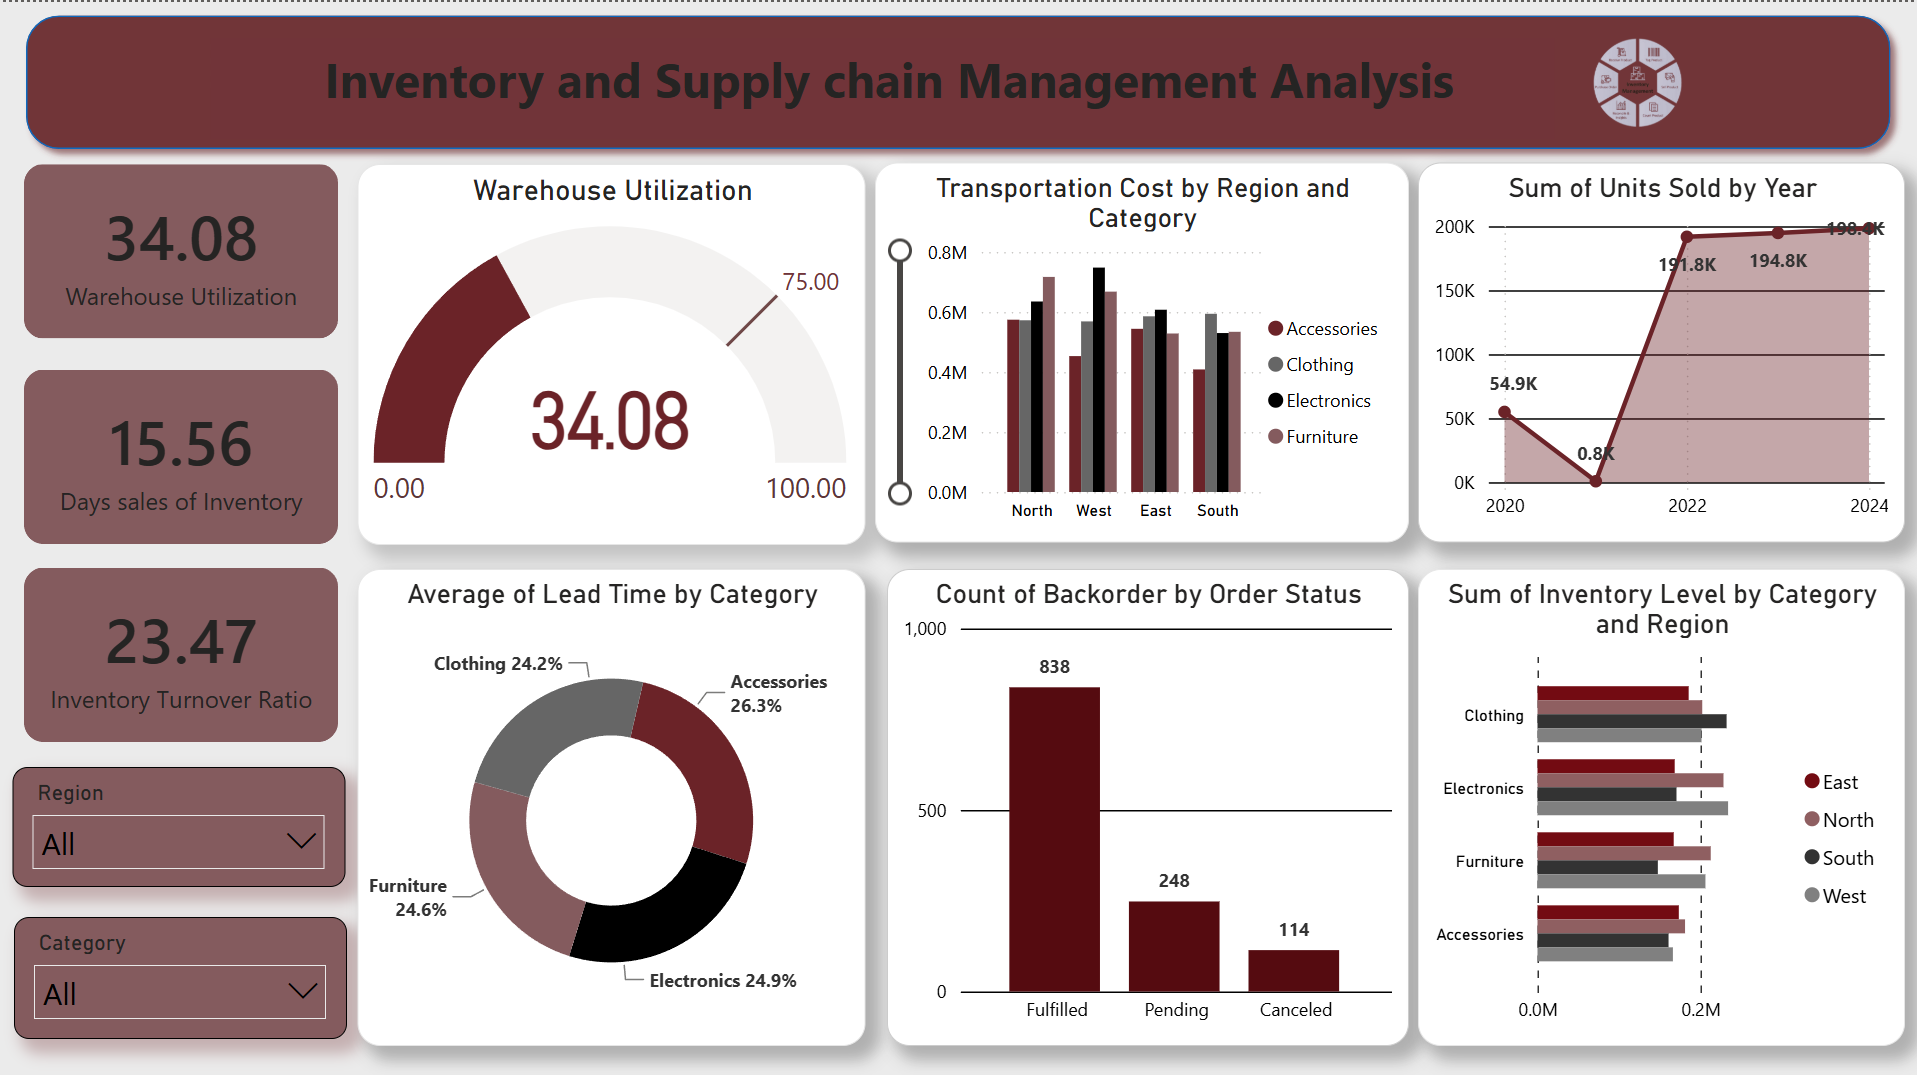

The page's visual inventory and layout, read from the dashboard file:
{"tool":"powerbi","page":{"name":"Page 1","canvas":[1280,720],"ordinal":0},"visuals":[{"type":"shape","box":[8.6,0,1261.4,107.1],"z":0},{"type":"textbox","box":[141.3,24,896,66.7],"z":1000},{"type":"cardVisual","fields":{"Data":["Inventory_SupplyChain_Dataset (1).Warehouse Utilization"]},"box":[0,91.2,242.6,150],"z":2000},{"type":"cardVisual","fields":{"Data":["Inventory_SupplyChain_Dataset (1).Days sales of Inventory"]},"box":[0,227.9,242.6,150],"z":3000},{"type":"cardVisual","fields":{"Data":["Inventory_SupplyChain_Dataset (1).Inventory Turnover Ratio"]},"box":[0,360.3,242.6,150],"z":4000},{"type":"slicer","fields":{"Values":["Inventory_SupplyChain_Dataset (1).Region"]},"box":[8.8,510.3,222.1,79.4],"z":5000},{"type":"slicer","fields":{"Values":["Inventory_SupplyChain_Dataset (1).Category"]},"box":[10.3,610.3,222.1,80.9],"z":6000},{"type":"gauge","fields":{"Y":["Inventory_SupplyChain_Dataset (1).Warehouse Utilization"]},"box":[239.4,108.2,338.7,253.4],"z":7000},{"type":"clusteredColumnChart","title":"Transportation Cost by Region and Category","fields":{"Y":["Sum(Inventory_SupplyChain_Dataset (1).Transportation Cost)"],"Category":["Inventory_SupplyChain_Dataset (1).Region"],"Series":["Inventory_SupplyChain_Dataset (1).Category"]},"box":[584.4,107,355.2,253.4],"z":8000},{"type":"lineChart","fields":{"Y":["Sum(Inventory_SupplyChain_Dataset (1).Units Sold)"],"Category":["Inventory_SupplyChain_Dataset (1).Date.Variation.Date Hierarchy.Year"]},"box":[946,107,324.7,253.4],"z":9000},{"type":"donutChart","title":"Average of Lead Time by Category","fields":{"Y":["Avg(Inventory_SupplyChain_Dataset (1).Lead Time (Days))"],"Category":["Inventory_SupplyChain_Dataset (1).Category"]},"box":[239.4,378.1,338.7,318.3],"z":10000},{"type":"columnChart","fields":{"Y":["CountNonNull(Inventory_SupplyChain_Dataset (1).Backorder)"],"Category":["Inventory_SupplyChain_Dataset (1).Order Status"]},"box":[592,378.1,347.6,318.3],"z":11000},{"type":"clusteredBarChart","fields":{"Category":["Inventory_SupplyChain_Dataset (1).Category"],"Series":["Inventory_SupplyChain_Dataset (1).Region"],"Y":["Sum(Inventory_SupplyChain_Dataset (1).Inventory Level)"]},"box":[946,378,325,318],"z":12000},{"type":"image","box":[1037.8,7.8,108.9,91.1],"z":13000}]}

Visuals, with their boxes in screenshot pixels (x1, y1, x2, y2), scaled from the page's 1280x720 canvas onto the 1917x1075 screenshot:
shape: box(13, 0, 1902, 160)
textbox: box(212, 36, 1554, 135)
cardVisual - Inventory_SupplyChain_Dataset (1).Warehouse Utilization: box(0, 136, 363, 360)
cardVisual - Inventory_SupplyChain_Dataset (1).Days sales of Inventory: box(0, 340, 363, 564)
cardVisual - Inventory_SupplyChain_Dataset (1).Inventory Turnover Ratio: box(0, 538, 363, 762)
slicer - Inventory_SupplyChain_Dataset (1).Region: box(13, 762, 346, 880)
slicer - Inventory_SupplyChain_Dataset (1).Category: box(15, 911, 348, 1032)
gauge - Inventory_SupplyChain_Dataset (1).Warehouse Utilization: box(359, 162, 866, 540)
"Transportation Cost by Region and Category" clusteredColumnChart: box(875, 160, 1407, 538)
lineChart - Sum(Inventory_SupplyChain_Dataset (1).Units Sold) x Inventory_SupplyChain_Dataset (1).Date.Variation.Date Hierarchy.Year: box(1417, 160, 1903, 538)
"Average of Lead Time by Category" donutChart: box(359, 565, 866, 1040)
columnChart - CountNonNull(Inventory_SupplyChain_Dataset (1).Backorder) x Inventory_SupplyChain_Dataset (1).Order Status: box(887, 565, 1407, 1040)
clusteredBarChart - Inventory_SupplyChain_Dataset (1).Category x Inventory_SupplyChain_Dataset (1).Region: box(1417, 564, 1904, 1039)
image: box(1554, 12, 1717, 148)
